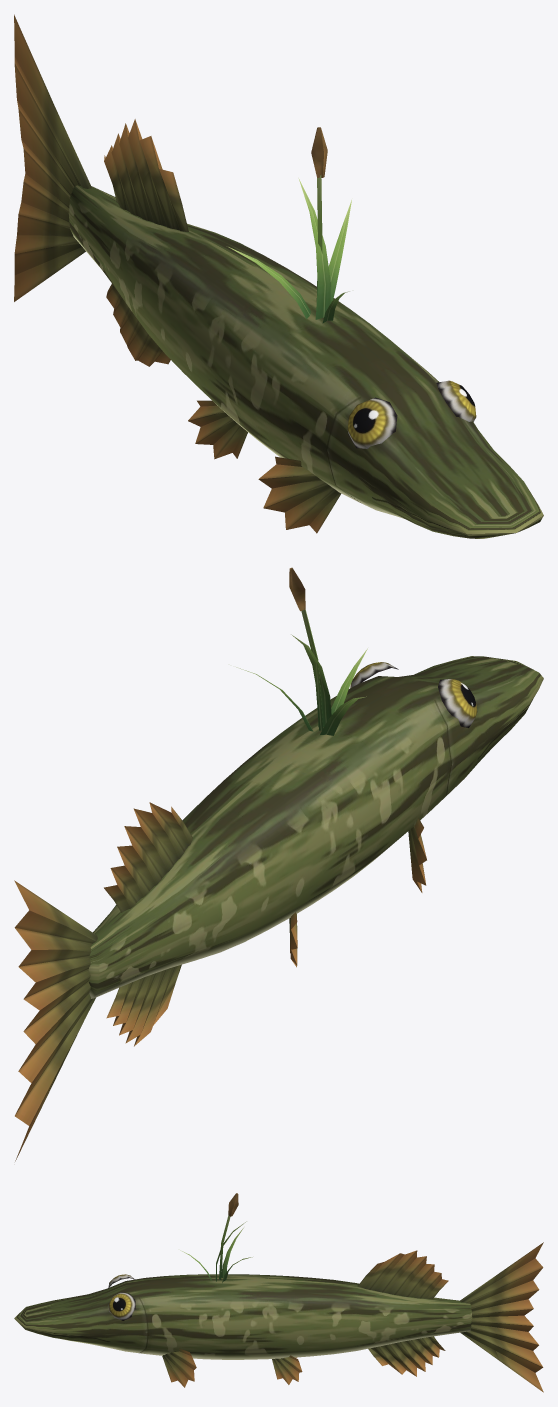
File: sedge-pike.glb
The picture shows the model from 3 angles, top to bottom: view 1: azimuth 30°, elevation 25°; view 2: azimuth 150°, elevation 25°; view 3: azimuth 270°, elevation 25°; orthographic projection. The views are drawn at different scales.
Visible parts, largest first — view 1: sedge-pike; view 2: sedge-pike; view 3: sedge-pike.
Part boxes in pixels (x1=…): sedge-pike: x1=14, y1=14, x2=543, y2=538; sedge-pike: x1=14, y1=567, x2=543, y2=1161; sedge-pike: x1=14, y1=1193, x2=543, y2=1392.
Bounding box in the file's own units: 0.1908 × 0.4218 × 1.
Materials: 1 (1 with a texture image).
